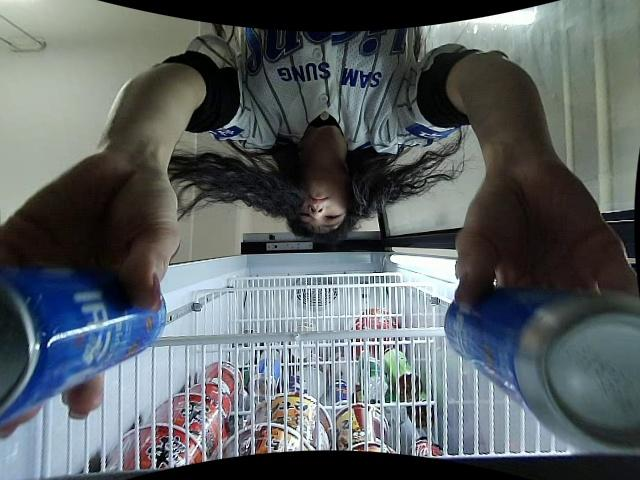00_hand: (0, 149, 181, 442), (453, 173, 640, 318)
15_letsbe: (444, 283, 640, 454), (0, 257, 168, 425)
